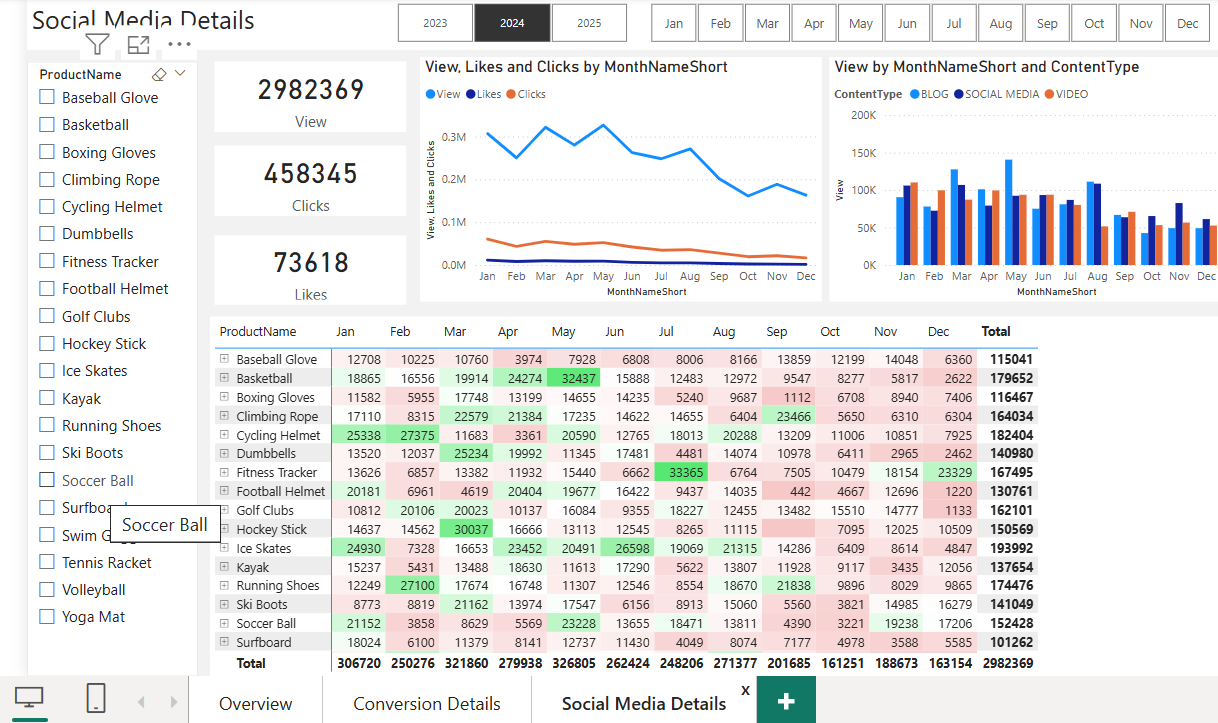

The dashboard page shown, as its layout file describes it:
{"tool":"powerbi","page":{"name":"Social Media Details","canvas":[1280,720],"ordinal":2},"visuals":[{"type":"textbox","box":[0,0,1280,55.7],"z":0},{"type":"slicer","fields":{"Values":["dim_products.ProductName"]},"box":[0,68.4,181.3,652.2],"z":1000},{"type":"card","fields":{"Values":["_Calculations.View"]},"box":[198.8,68.4,203.6,74.8],"z":2000},{"type":"card","fields":{"Values":["_Calculations.Clicks"]},"box":[198.3,157.5,203.6,74.8],"z":3000},{"type":"card","fields":{"Values":["_Calculations.Likes"]},"box":[198.8,252.9,203.6,73.2],"z":4000},{"type":"slicer","fields":{"Values":["Calendar.Year"]},"box":[367.4,0,292.7,54.1],"z":5000},{"type":"slicer","fields":{"Values":["Calendar.MonthNameShort"]},"box":[636.8,0,642.1,54.1],"z":6000},{"type":"lineChart","fields":{"Category":["Calendar.MonthNameShort"],"Y":["_Calculations.View","_Calculations.Likes","_Calculations.Clicks"]},"box":[416.2,63.6,426.3,259.3],"z":7000},{"type":"clusteredColumnChart","fields":{"Category":["Calendar.MonthNameShort"],"Y":["_Calculations.View"],"Series":["fact_engagement_data.ContentType"]},"box":[851,63.6,427.4,259.3],"z":8000},{"type":"pivotTable","fields":{"Rows":["dim_products.ProductName","fact_engagement_data.ContentType"],"Columns":["Calendar.MonthNameShort"],"Values":["_Calculations.View"]},"box":[194.1,338.8,1084.8,381.7],"z":9000}]}

Visuals, with their boxes on the page's 1280x720 design canvas (x1, y1, x2, y2). These are canvas units, not pixel positions in the 1218x723 screenshot, which may show the page scaled, cropped or inside an application window:
textbox: 0 0 1280 56
slicer - dim_products.ProductName: 0 68 181 721
card - _Calculations.View: 199 68 402 143
card - _Calculations.Clicks: 198 158 402 232
card - _Calculations.Likes: 199 253 402 326
slicer - Calendar.Year: 367 0 660 54
slicer - Calendar.MonthNameShort: 637 0 1279 54
lineChart - Calendar.MonthNameShort x _Calculations.View: 416 64 842 323
clusteredColumnChart - Calendar.MonthNameShort x _Calculations.View: 851 64 1278 323
pivotTable - dim_products.ProductName x fact_engagement_data.ContentType: 194 339 1279 720
